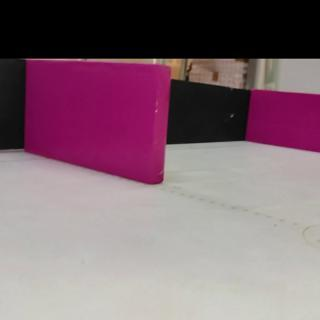xparking: (27, 66, 166, 168), (249, 96, 320, 150)
